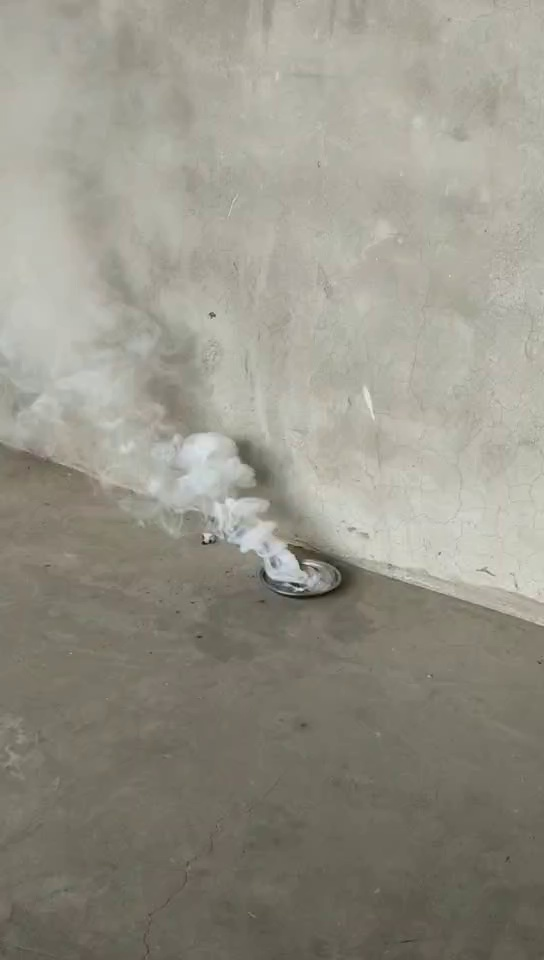yanwu: (62, 313, 299, 584)
